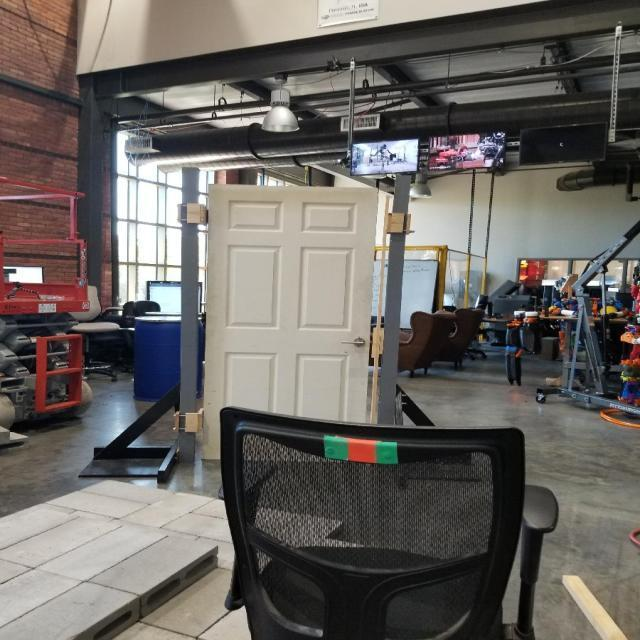door: (200, 181, 379, 465), (342, 336, 366, 349)
